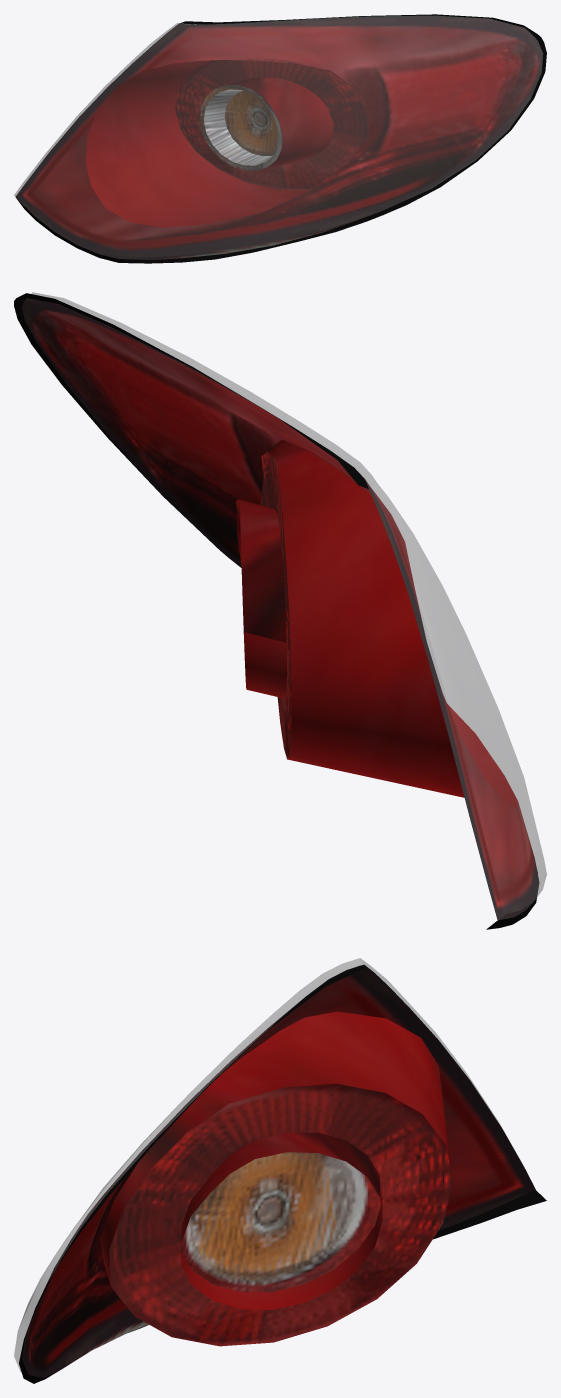
3 views of the same model, one above another, from view 1: azimuth 30°, elevation 25°; view 2: azimuth 150°, elevation 25°; view 3: azimuth 270°, elevation 25° (orthographic). The views are drawn at different scales.
Parts seen in each view (by area): view 1: _6139_18_541C_R_1_DTaSI__6139_18_541C_R, _6139_18_541C_R__6139_18_541C_R_2_N, _6139_18_541C_R__6139_18_541C_R_3_D; view 2: _6139_18_541C_R__6139_18_541C_R_2_N, _6139_18_541C_R_1_DTaSI__6139_18_541C_R, _6139_18_541C_R__6139_18_541C_R_3_D; view 3: _6139_18_541C_R__6139_18_541C_R_2_N, _6139_18_541C_R_1_DTaSI__6139_18_541C_R, _6139_18_541C_R__6139_18_541C_R_3_D.
Boxes of the visible parts, left/top/right/bottom form: _6139_18_541C_R_1_DTaSI__6139_18_541C_R: left=14, top=15, right=543, bottom=259; _6139_18_541C_R__6139_18_541C_R_2_N: left=15, top=16, right=542, bottom=259; _6139_18_541C_R__6139_18_541C_R_3_D: left=16, top=14, right=546, bottom=263; _6139_18_541C_R__6139_18_541C_R_2_N: left=22, top=298, right=539, bottom=920; _6139_18_541C_R_1_DTaSI__6139_18_541C_R: left=31, top=292, right=546, bottom=919; _6139_18_541C_R__6139_18_541C_R_3_D: left=14, top=293, right=538, bottom=929; _6139_18_541C_R__6139_18_541C_R_2_N: left=22, top=965, right=535, bottom=1377; _6139_18_541C_R_1_DTaSI__6139_18_541C_R: left=14, top=958, right=531, bottom=1371; _6139_18_541C_R__6139_18_541C_R_3_D: left=19, top=964, right=546, bottom=1383.
Size of the model in its own units: 40.41 by 20.47 by 24.88.
